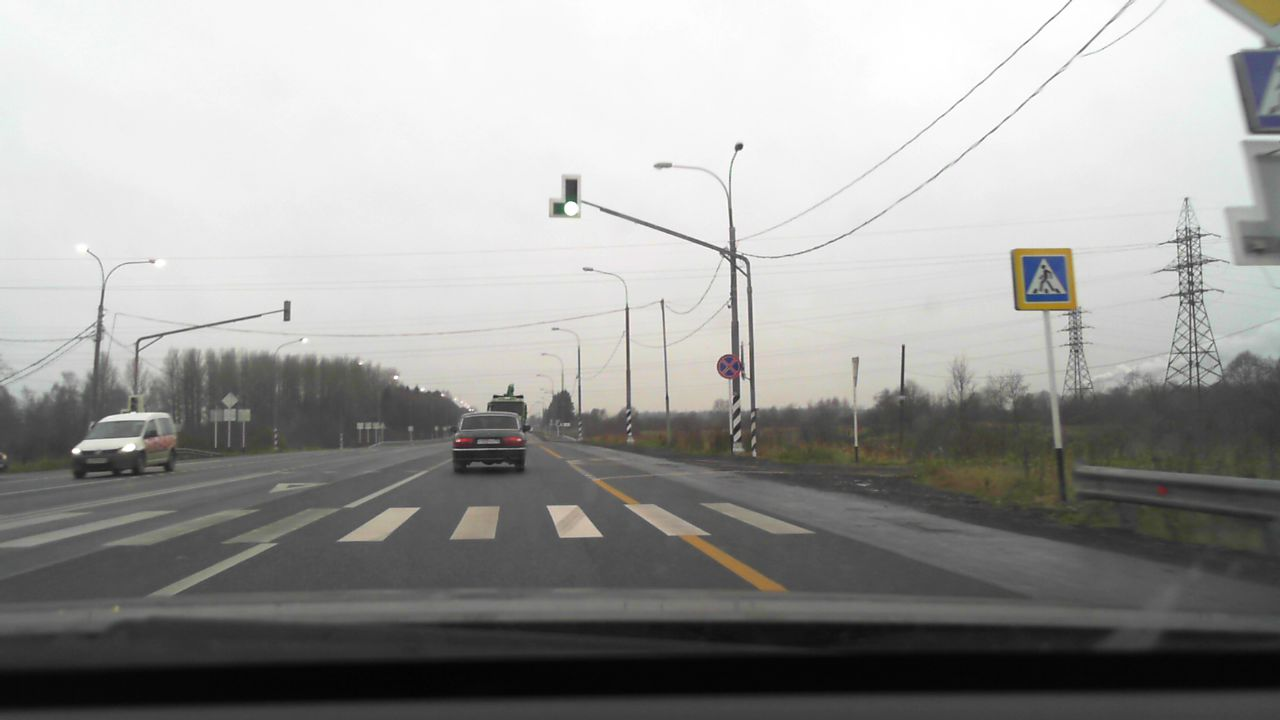No Parking: (716, 354, 741, 379)
